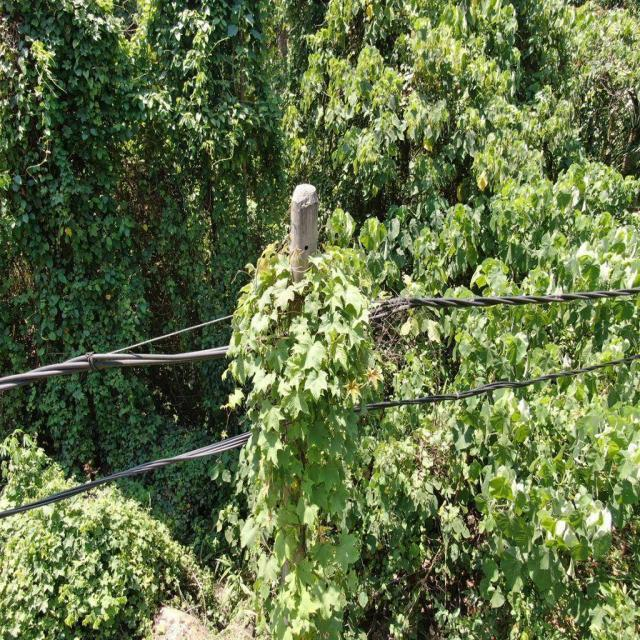critical vegetation: (212, 227, 377, 632)
